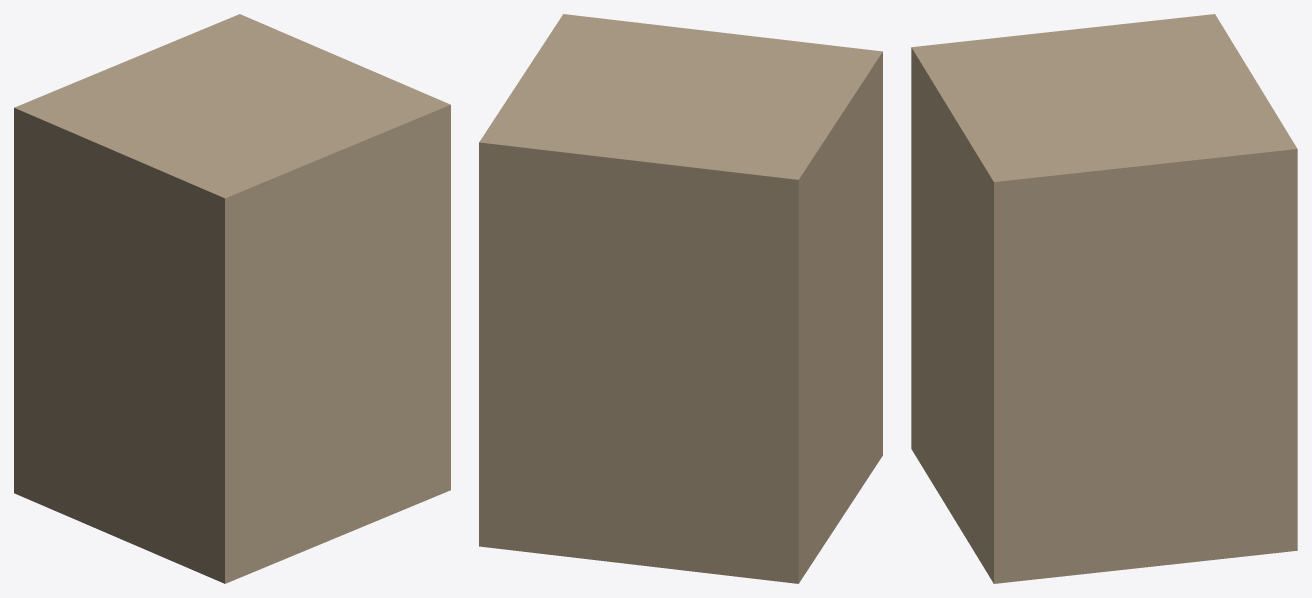
File: bld_106796858.dae
3 views of the same model, side by side, from view 1: azimuth 30°, elevation 25°; view 2: azimuth 150°, elevation 25°; view 3: azimuth 270°, elevation 25° (orthographic). The views are drawn at different scales.
Visible parts, largest first — view 1: bld_106796858; view 2: bld_106796858; view 3: bld_106796858.
Boxes of the visible parts, bbox=[...] form: bld_106796858: bbox=[14, 14, 450, 583]; bld_106796858: bbox=[479, 14, 882, 583]; bld_106796858: bbox=[911, 14, 1297, 583].
Bounding box in the file's own units: 7.18 × 6.97 × 8.
